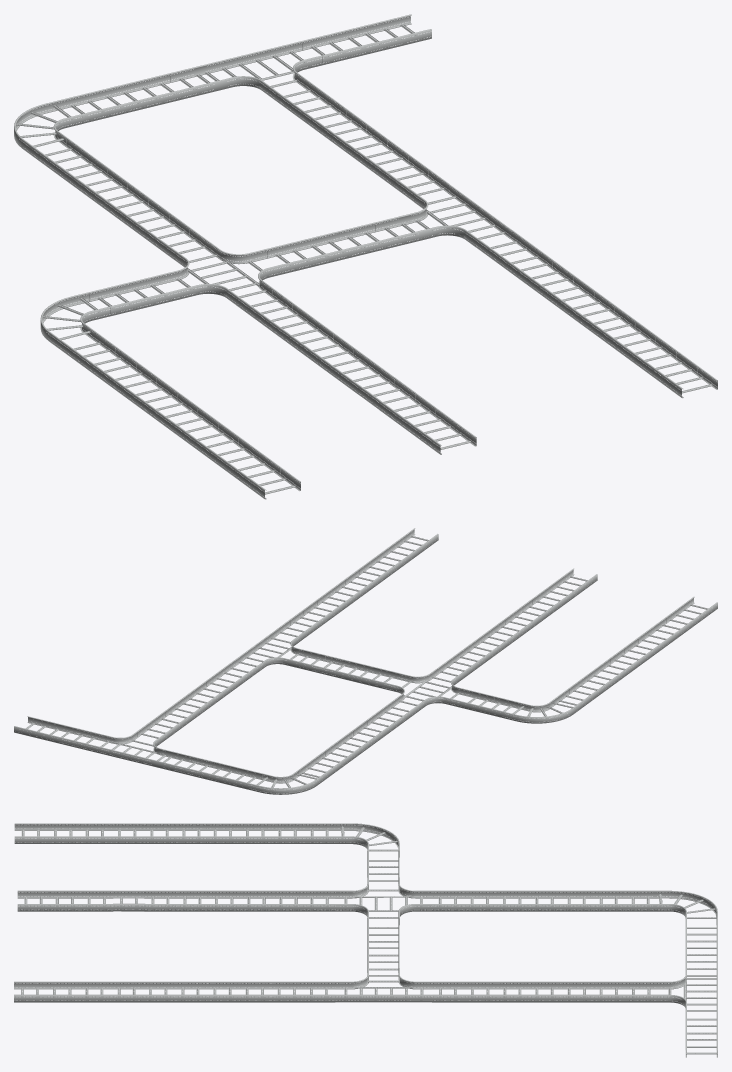
The model's file is KabelrostFix.fbx.
3 views of the same model, one above another, from view 1: azimuth 30°, elevation 25°; view 2: azimuth 150°, elevation 25°; view 3: azimuth 270°, elevation 25° (orthographic). The views are drawn at different scales.
Parts seen in each view (by area): view 1: X; view 2: X; view 3: X.
Part boxes in pixels (box(x1,y1,x2,y2)): X: box(14, 14, 717, 499); X: box(14, 528, 717, 794); X: box(14, 823, 717, 1057).
Bounding box in the file's own units: 9.98 × 0.1524 × 13.07.
